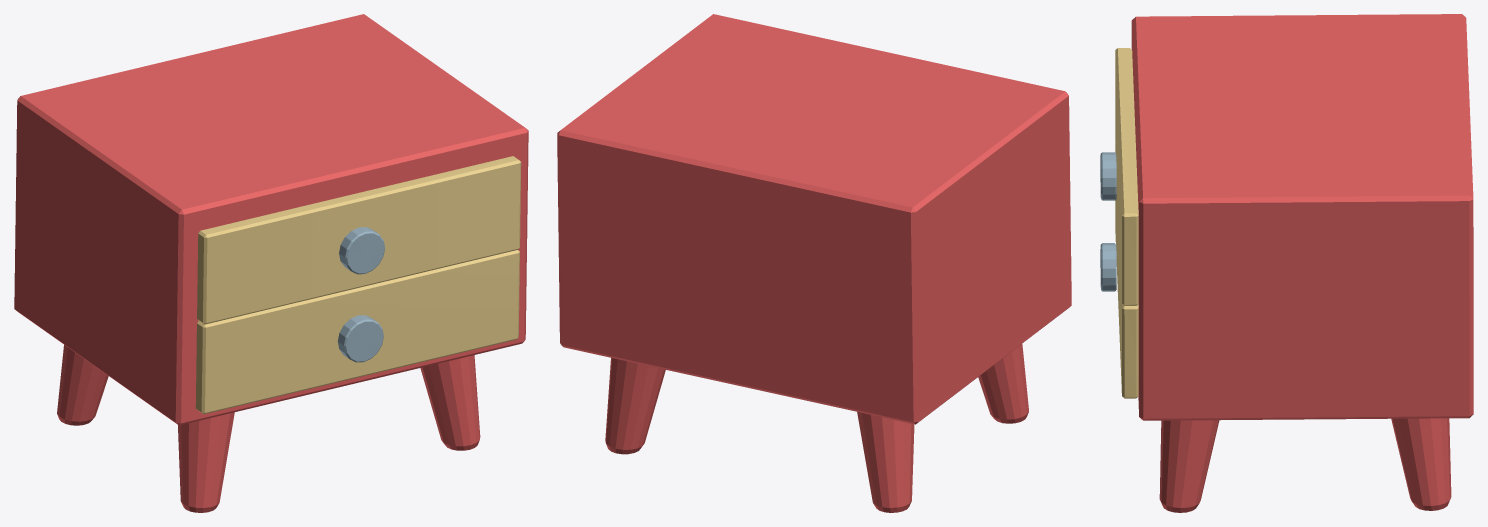
Rendered from drawers1.fbx.
3 views of the same model, side by side, from view 1: azimuth 30°, elevation 25°; view 2: azimuth 150°, elevation 25°; view 3: azimuth 270°, elevation 25° (orthographic). The views are drawn at different scales.
Parts seen in each view (by area): view 1: drawers1; view 2: drawers1; view 3: drawers1.
Boxes of the visible parts, x1,y1,x2,y2 form: drawers1: [14, 14, 528, 512]; drawers1: [557, 14, 1071, 512]; drawers1: [1100, 14, 1473, 512].
Bounding box in the file's own units: 66.56 × 57.34 × 57.21.
Materials: 1 (1 with a texture image).
